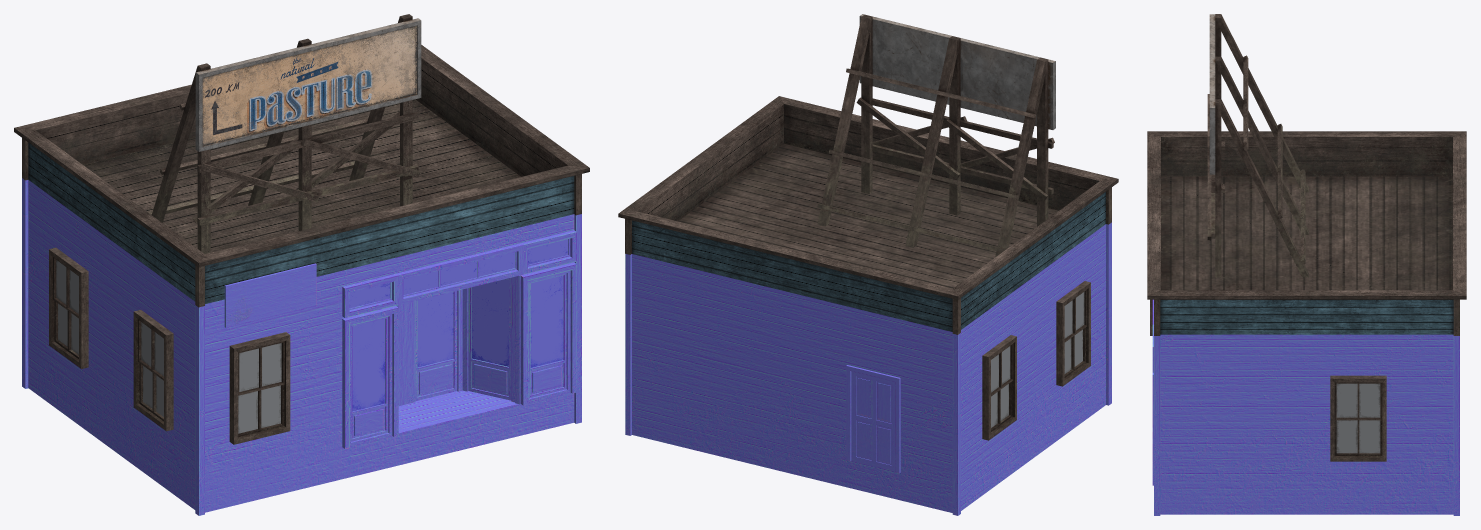
The model's file is RoofTop_Background3.fbx.
3 views of the same model, side by side, from view 1: azimuth 30°, elevation 25°; view 2: azimuth 150°, elevation 25°; view 3: azimuth 270°, elevation 25° (orthographic). The views are drawn at different scales.
Visible parts, largest first — view 1: t_002_b001_1_1, t_002_b003_sf_1, other_001, window_001_1_1, window_001_2, window_001_3, ad_003; view 2: t_002_b001_1_1, t_002_b003_sf_1, other_001, t002_door001, window_001_2, window_001_3; view 3: t_002_b003_sf_1, t_002_b001_1_1, other_001, window_001_1.
Part boxes in pixels (<box>): t_002_b001_1_1: <box>22,178,581,515</box>; t_002_b003_sf_1: <box>14,45,589,307</box>; other_001: <box>148,14,421,253</box>; window_001_1_1: <box>229,332,290,444</box>; window_001_2: <box>133,310,173,431</box>; window_001_3: <box>49,247,88,368</box>; ad_003: <box>224,263,316,327</box>; t_002_b001_1_1: <box>625,222,1111,515</box>; t_002_b003_sf_1: <box>618,96,1118,334</box>; other_001: <box>817,14,1055,257</box>; t002_door001: <box>846,365,900,473</box>; window_001_2: <box>1056,281,1090,386</box>; window_001_3: <box>982,335,1016,440</box>; t_002_b003_sf_1: <box>1147,131,1466,335</box>; t_002_b001_1_1: <box>1152,299,1459,515</box>; other_001: <box>1207,14,1308,277</box>; window_001_1: <box>1330,375,1386,461</box>.
Bounding box in the file's own units: 1009 × 1016 × 826.
